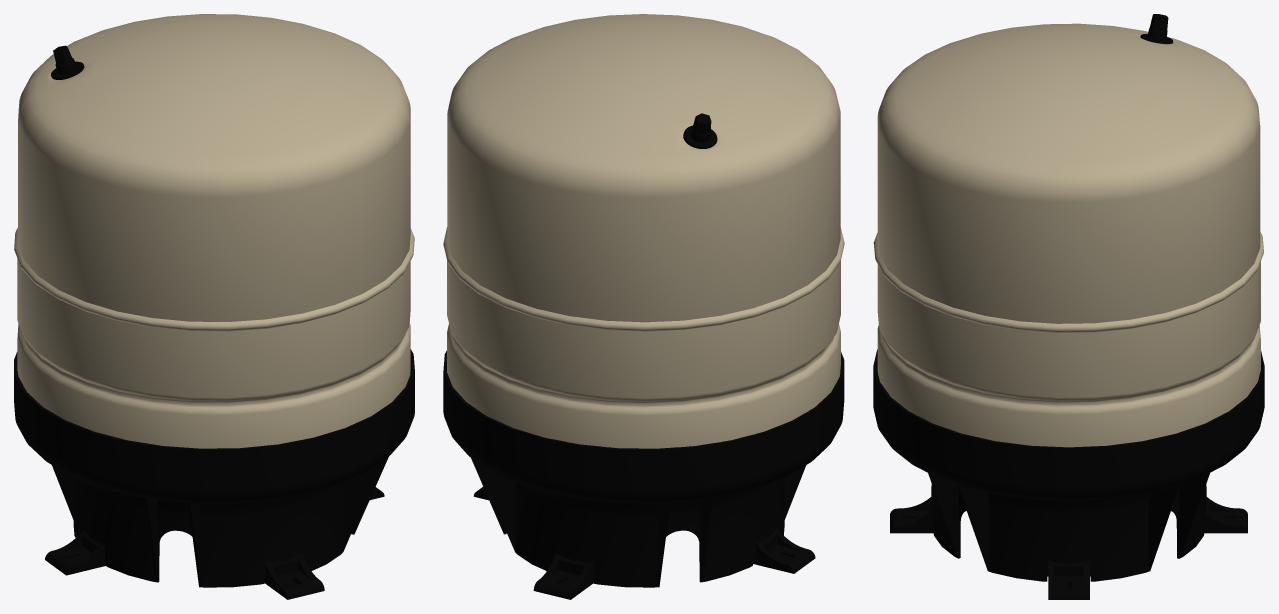
Rendered from 36lt-sabit-dikey-tank.obj.
The picture shows the model from 3 angles, left to right: view 1: azimuth 30°, elevation 25°; view 2: azimuth 150°, elevation 25°; view 3: azimuth 270°, elevation 25°; orthographic projection. The views are drawn at different scales.
Parts seen in each view (by area): view 1: 36lt-sabit-dikey-tank.006, 36lt-sabit-dikey-tank.003, 36lt-sabit-dikey-tank.015, 36lt-sabit-dikey-tank.002, 36lt-sabit-dikey-tank.017, 36lt-sabit-dikey-tank.019, 36lt-sabit-dikey-tank.001; view 2: 36lt-sabit-dikey-tank.006, 36lt-sabit-dikey-tank.003, 36lt-sabit-dikey-tank.015, 36lt-sabit-dikey-tank.002, 36lt-sabit-dikey-tank.018, 36lt-sabit-dikey-tank.019, 36lt-sabit-dikey-tank.001; view 3: 36lt-sabit-dikey-tank.006, 36lt-sabit-dikey-tank.003, 36lt-sabit-dikey-tank.015, 36lt-sabit-dikey-tank.002, 36lt-sabit-dikey-tank.016, 36lt-sabit-dikey-tank.017, 36lt-sabit-dikey-tank.018, 36lt-sabit-dikey-tank.001.
Part boxes in pixels (bbox=[...]): 36lt-sabit-dikey-tank.006: bbox=[18, 14, 410, 321]; 36lt-sabit-dikey-tank.003: bbox=[17, 237, 410, 448]; 36lt-sabit-dikey-tank.015: bbox=[14, 349, 414, 587]; 36lt-sabit-dikey-tank.002: bbox=[14, 228, 414, 331]; 36lt-sabit-dikey-tank.017: bbox=[264, 553, 324, 599]; 36lt-sabit-dikey-tank.019: bbox=[45, 529, 105, 575]; 36lt-sabit-dikey-tank.001: bbox=[51, 45, 84, 79]; 36lt-sabit-dikey-tank.006: bbox=[447, 14, 840, 322]; 36lt-sabit-dikey-tank.003: bbox=[447, 260, 840, 448]; 36lt-sabit-dikey-tank.015: bbox=[443, 350, 844, 587]; 36lt-sabit-dikey-tank.002: bbox=[443, 227, 844, 331]; 36lt-sabit-dikey-tank.018: bbox=[533, 553, 593, 599]; 36lt-sabit-dikey-tank.019: bbox=[753, 528, 815, 573]; 36lt-sabit-dikey-tank.001: bbox=[683, 113, 717, 148]; 36lt-sabit-dikey-tank.006: bbox=[877, 23, 1260, 323]; 36lt-sabit-dikey-tank.003: bbox=[877, 243, 1260, 447]; 36lt-sabit-dikey-tank.015: bbox=[873, 349, 1264, 581]; 36lt-sabit-dikey-tank.002: bbox=[873, 232, 1263, 332]; 36lt-sabit-dikey-tank.016: bbox=[1048, 561, 1089, 599]; 36lt-sabit-dikey-tank.017: bbox=[890, 497, 933, 533]; 36lt-sabit-dikey-tank.018: bbox=[1204, 497, 1247, 533]; 36lt-sabit-dikey-tank.001: bbox=[1140, 14, 1173, 43].
Bounding box in the file's own units: 17.38 × 22.54 × 17.38.
